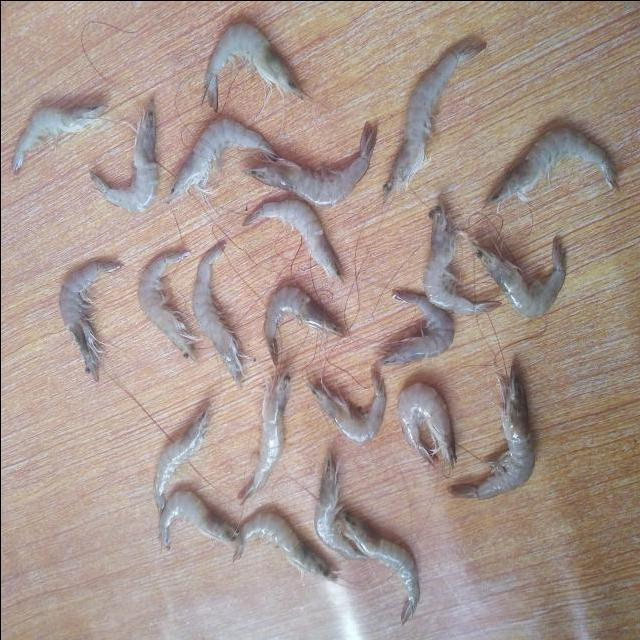shrimp: (382, 42, 486, 201), (447, 366, 535, 499), (244, 121, 377, 205), (484, 127, 619, 206), (337, 511, 419, 625), (165, 118, 275, 202), (423, 196, 500, 314), (203, 22, 302, 109), (242, 199, 342, 281), (57, 261, 121, 381), (88, 99, 156, 211), (472, 237, 565, 317), (191, 241, 241, 389), (232, 513, 337, 582), (237, 365, 289, 504), (136, 250, 197, 362), (10, 104, 105, 175), (313, 450, 372, 559), (263, 286, 344, 364), (152, 406, 210, 514), (375, 290, 454, 366), (306, 370, 385, 444), (397, 382, 456, 468), (158, 491, 235, 549)
